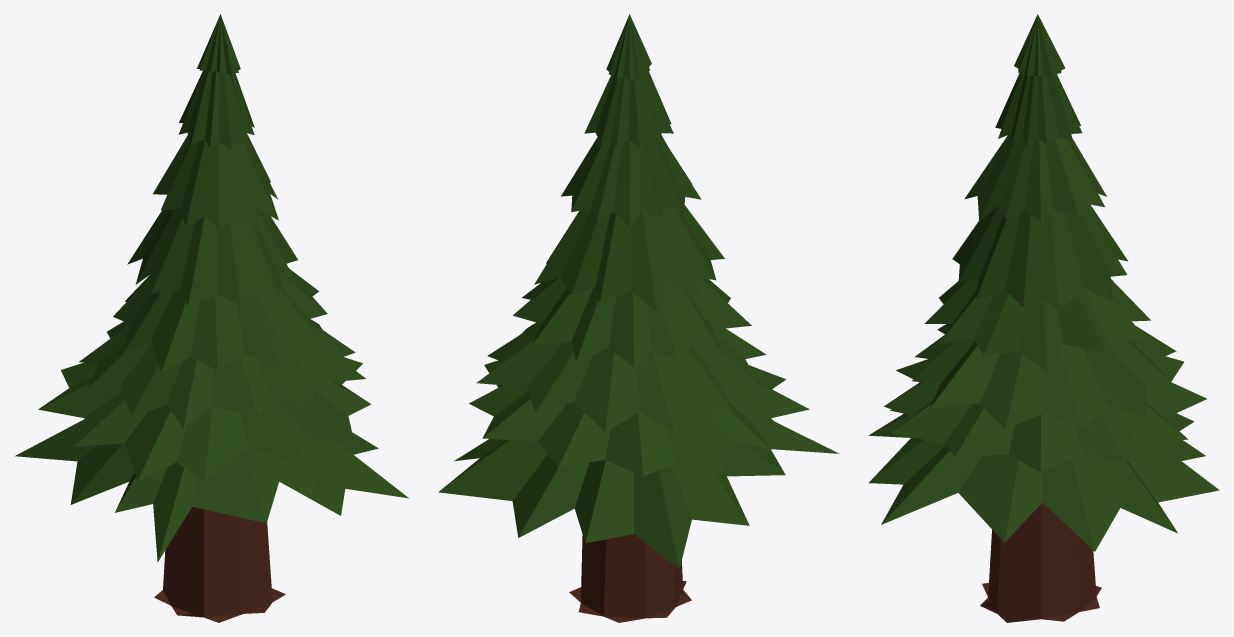
File: Tree3.fbx
The picture shows the model from 3 angles, left to right: view 1: azimuth 30°, elevation 25°; view 2: azimuth 150°, elevation 25°; view 3: azimuth 270°, elevation 25°; orthographic projection.
Visible parts, largest first — view 1: Cube; view 2: Cube; view 3: Cube.
Part boxes in pixels (x1=…): Cube: x1=15, y1=14, x2=408, y2=622; Cube: x1=438, y1=14, x2=839, y2=622; Cube: x1=868, y1=14, x2=1219, y2=622.
Size of the model in its own units: 590 by 1122 by 612.
